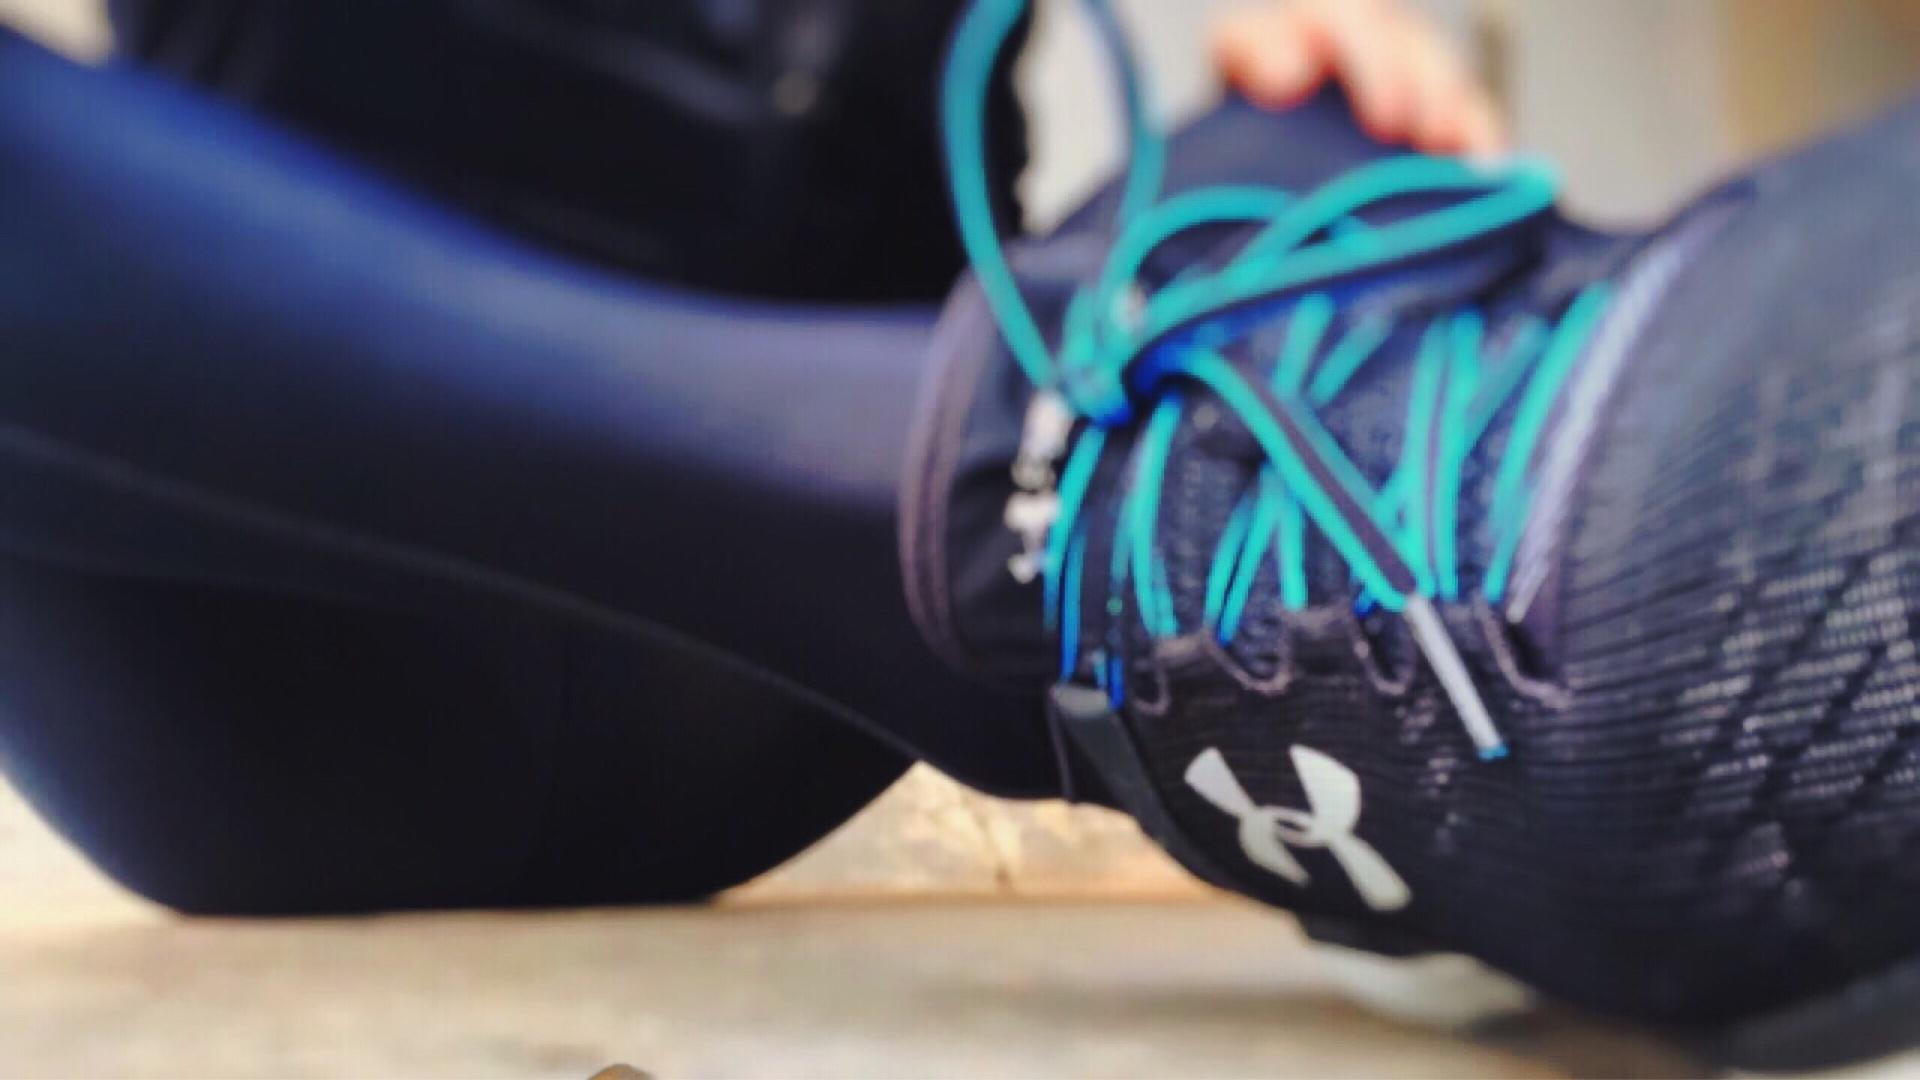plastic-bottles: (390, 1004, 721, 1080)
